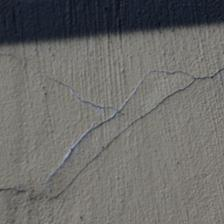Crack: (6, 0, 172, 130), (82, 48, 140, 148), (4, 114, 108, 145)
